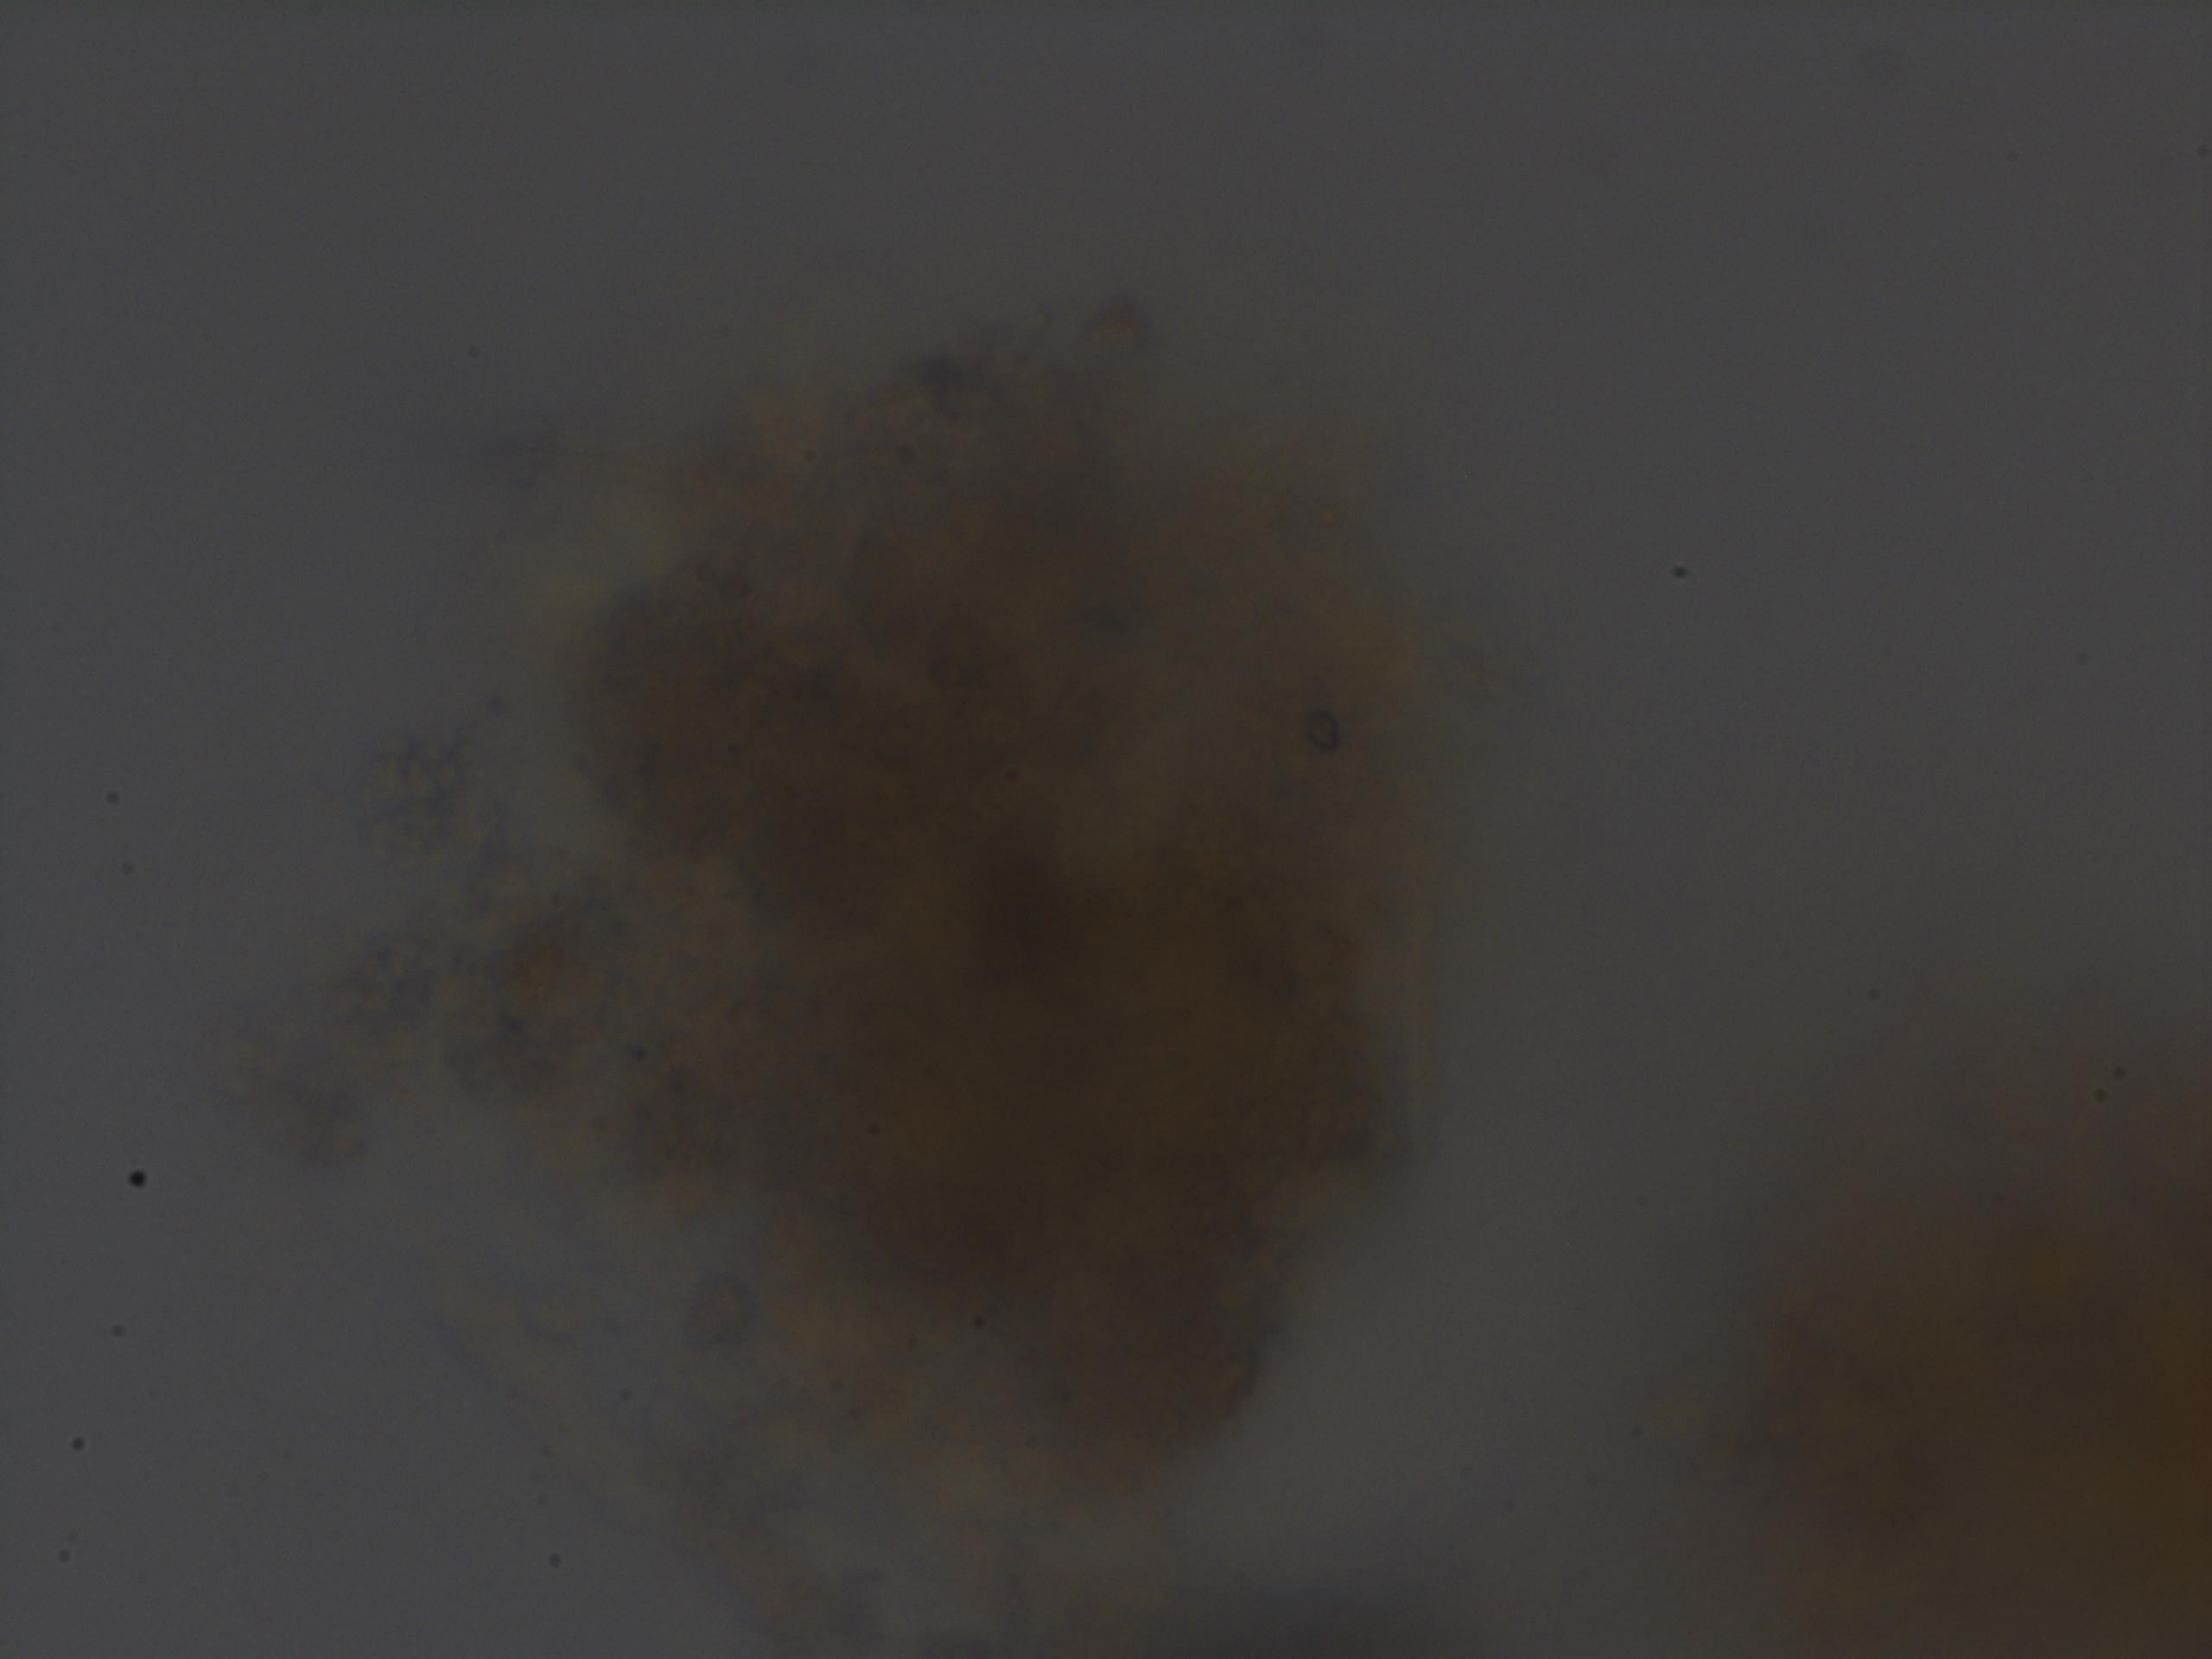spherical_floc: (484, 298, 1479, 1518)
